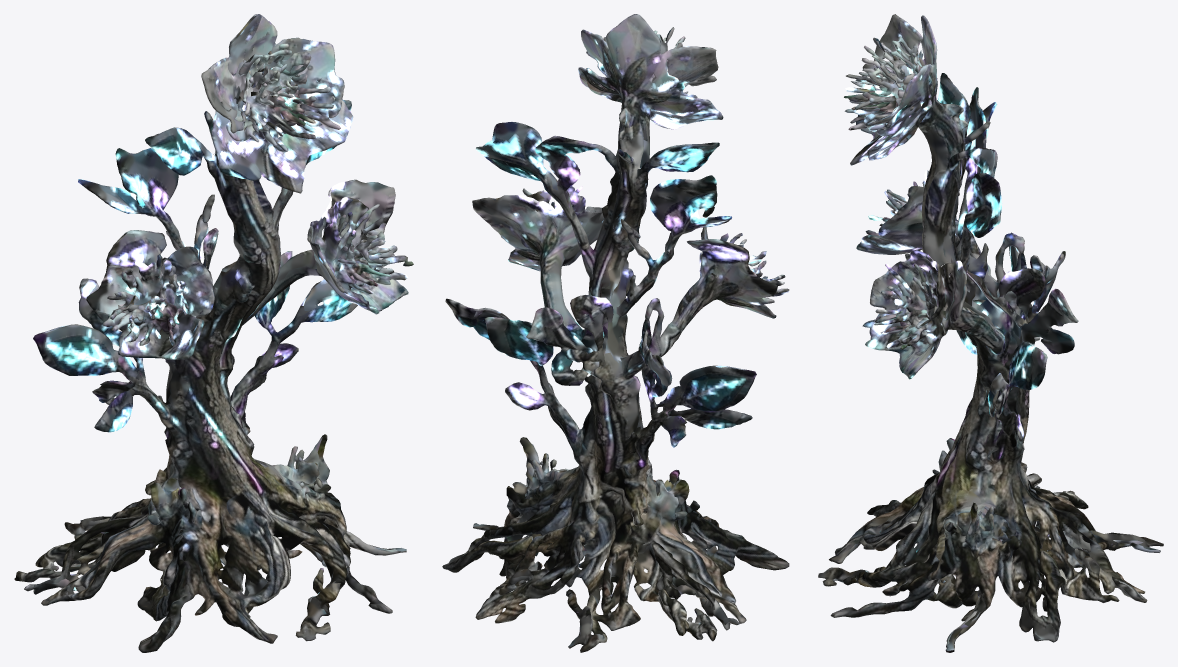
Rendered from crystalline_flower_plant.glb.
3 renders of one model, left to right at view 1: azimuth 30°, elevation 25°; view 2: azimuth 150°, elevation 25°; view 3: azimuth 270°, elevation 25°, orthographic. The views are drawn at different scales.
Parts seen in each view (by area): view 1: geometry_0; view 2: geometry_0; view 3: geometry_0.
Part boxes in pixels (x1,y1,x2,y2): geometry_0: (14, 14, 413, 652); geometry_0: (442, 14, 789, 652); geometry_0: (818, 14, 1163, 652).
Size of the model in its own units: 1.6 by 2.6 by 1.45.
Materials: 1 (1 with a texture image).
